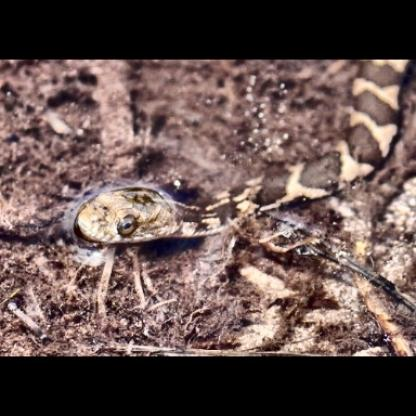Snake: (50, 147, 411, 329)
